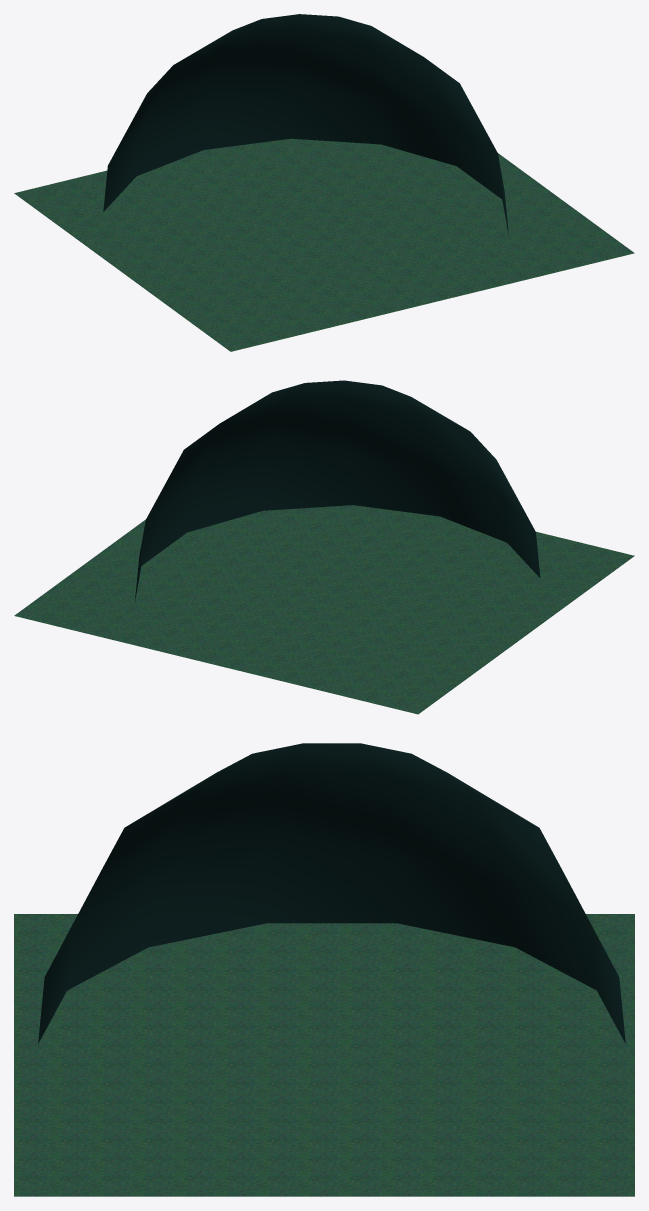
File: INST_MIRK_SKYBOX.fbx
The picture shows the model from 3 angles, top to bottom: view 1: azimuth 30°, elevation 25°; view 2: azimuth 150°, elevation 25°; view 3: azimuth 270°, elevation 25°; orthographic projection. The views are drawn at different scales.
Parts seen in each view (by area): view 1: INST_MIRK_SKYBOX; view 2: INST_MIRK_SKYBOX; view 3: INST_MIRK_SKYBOX.
Part boxes in pixels (x1,y1,x2,y2): INST_MIRK_SKYBOX: (14, 14, 634, 351); INST_MIRK_SKYBOX: (14, 380, 634, 714); INST_MIRK_SKYBOX: (14, 743, 634, 1196).
Bounding box in the file's own units: 410474 × 189453 × 381237.
2 materials, 2 textured.
